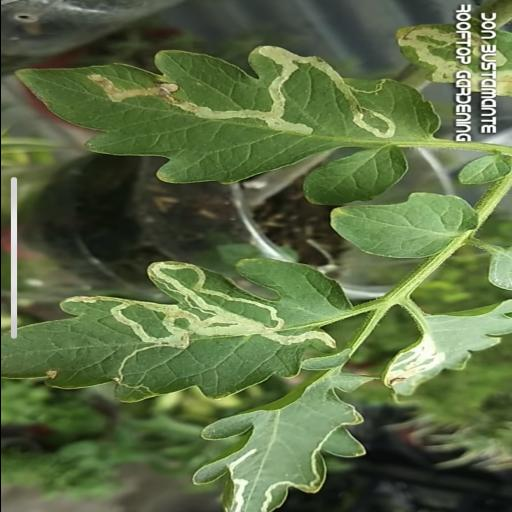disease_tomato: (18, 48, 440, 184), (0, 260, 350, 404), (190, 395, 368, 512), (384, 300, 512, 395)
